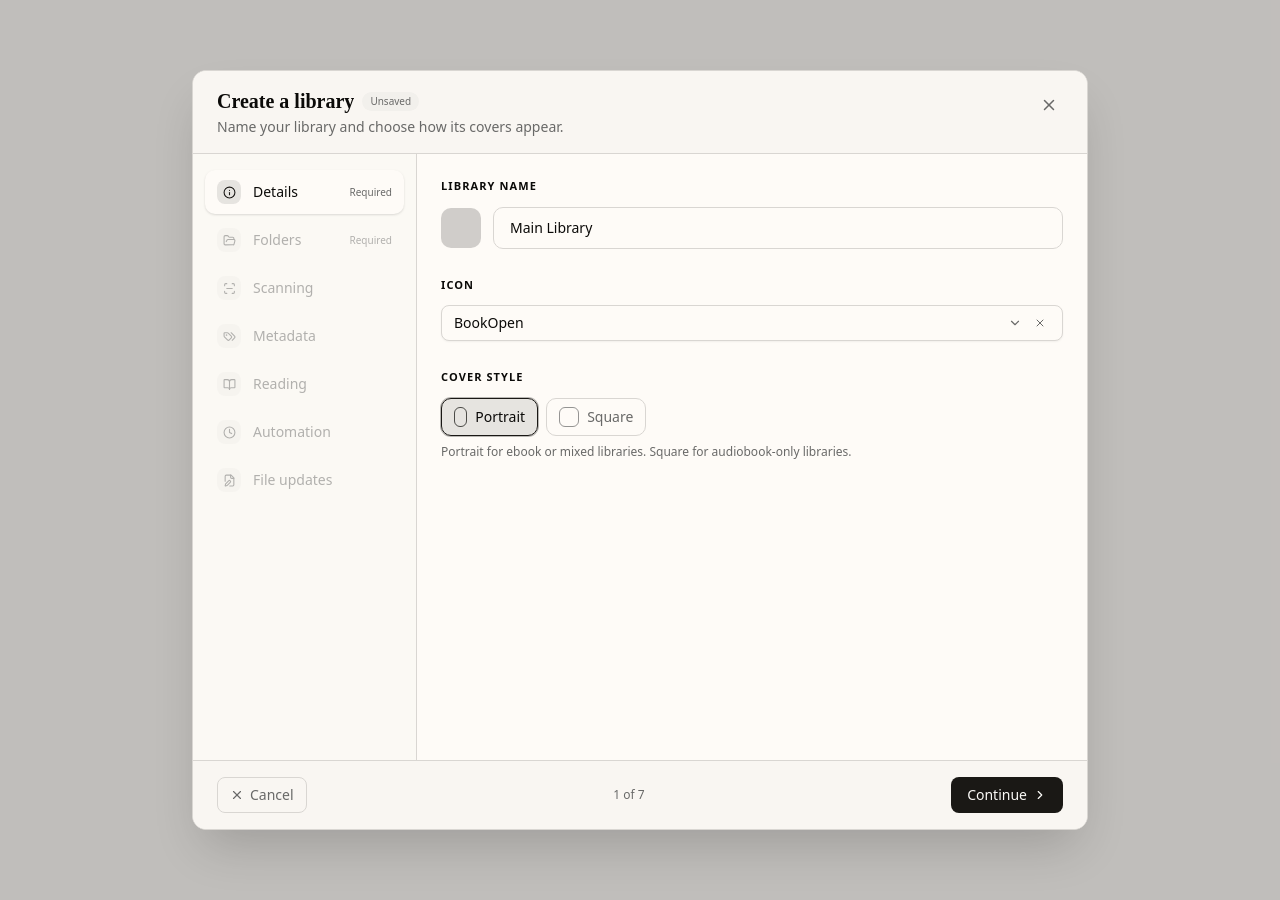
Test: LibraryCreatorModal › unlocks the folder step after valid details are entered
Click the button "Continue": (1007, 795) [951,777,1063,813]
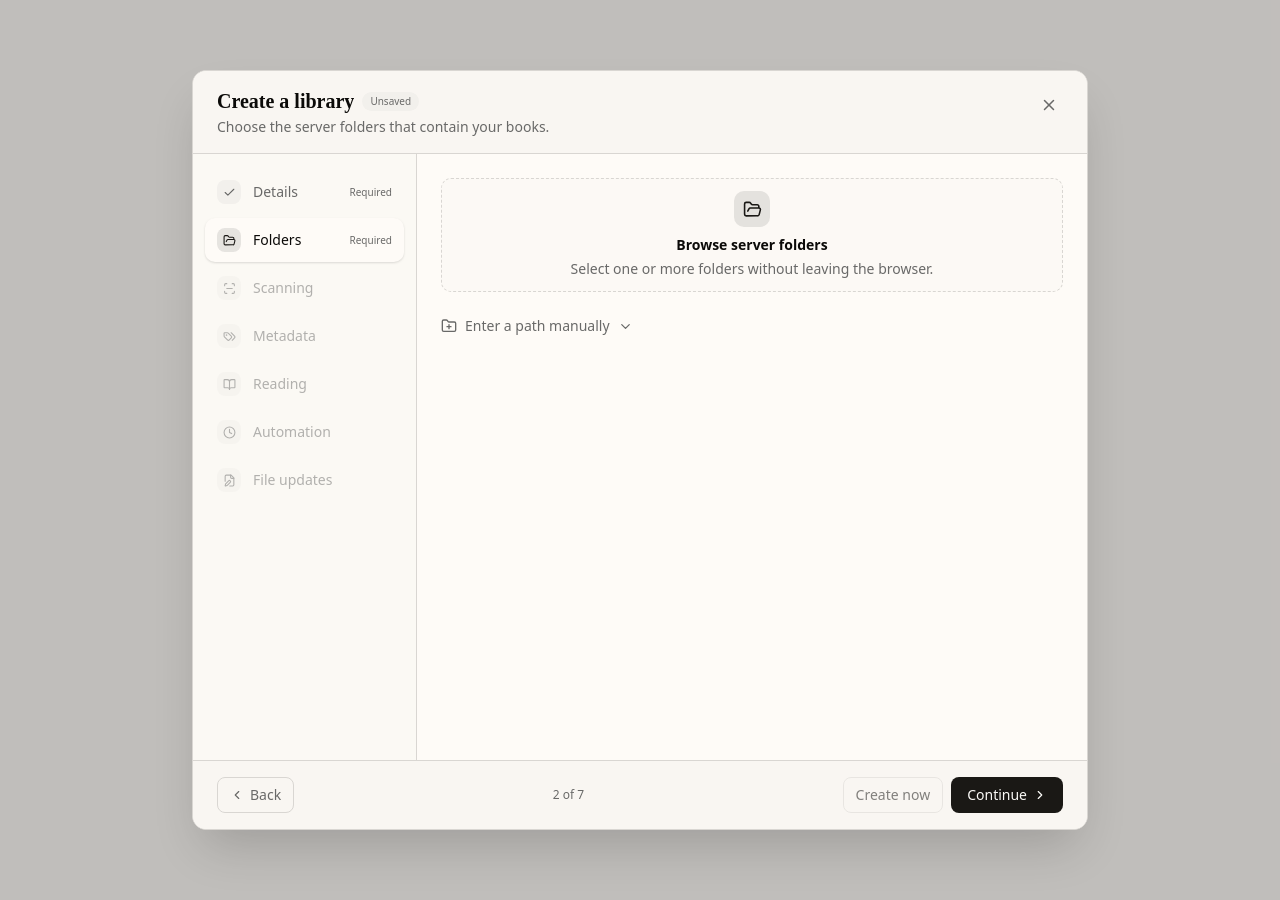
Now the text "Choose the server folders that contain your books." is shown, box [217,117,549,137]
